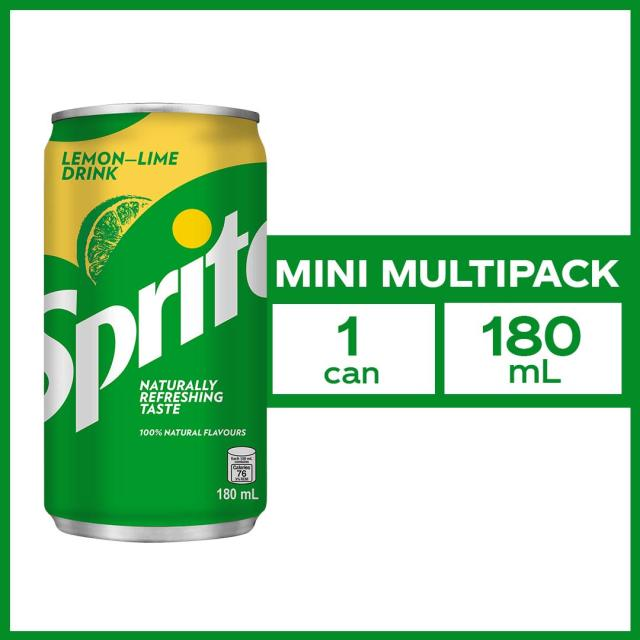sprite: (38, 106, 276, 544)
